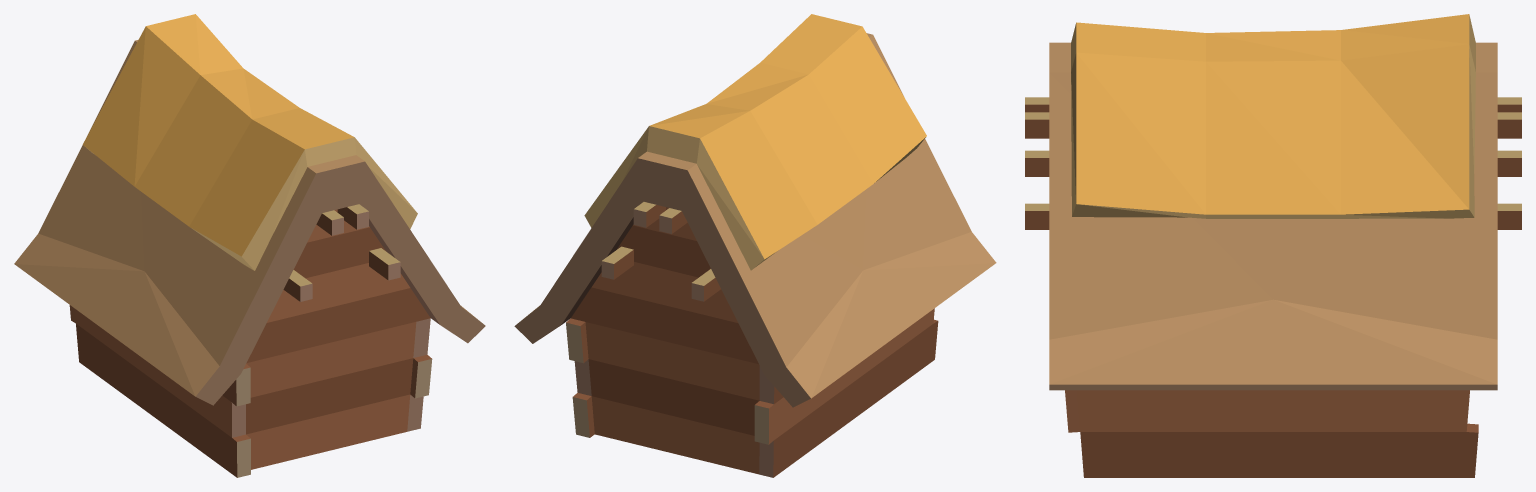
Rendered from TB_Bd_SWRoom_Big.FBX.
3 views of the same model, side by side, from view 1: azimuth 30°, elevation 25°; view 2: azimuth 150°, elevation 25°; view 3: azimuth 270°, elevation 25° (orthographic). The views are drawn at different scales.
Parts seen in each view (by area): view 1: TB_Bd_SWRoom_Big; view 2: TB_Bd_SWRoom_Big; view 3: TB_Bd_SWRoom_Big.
Boxes of the visible parts, left/top/right/bottom form: TB_Bd_SWRoom_Big: left=14, top=14, right=485, bottom=477; TB_Bd_SWRoom_Big: left=514, top=14, right=996, bottom=477; TB_Bd_SWRoom_Big: left=1025, top=14, right=1521, bottom=477.
Size of the model in its own units: 4.47 by 4.66 by 5.35.
